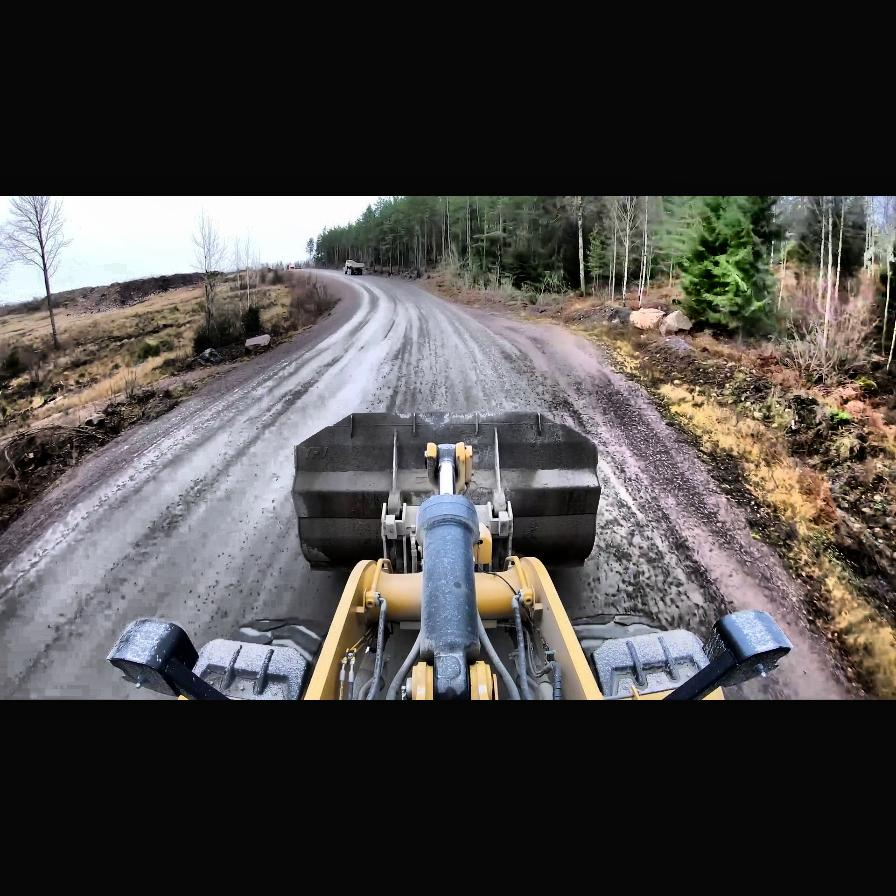anchor: (426, 440, 472, 494)
